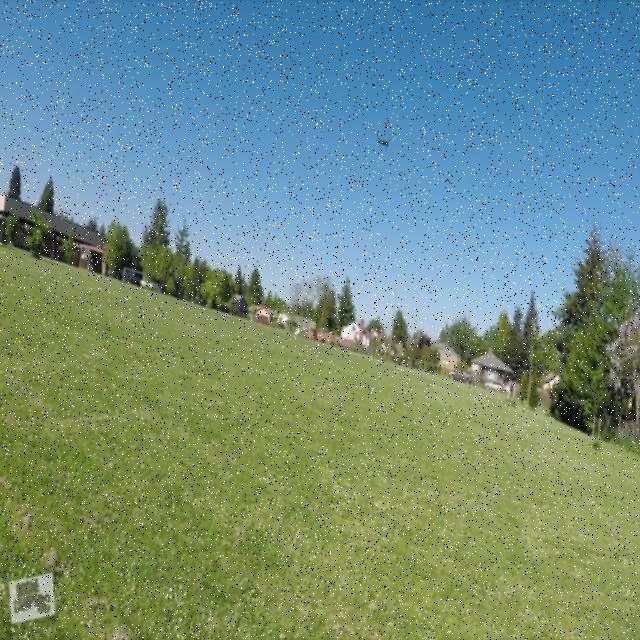UAV: (376, 135, 392, 152)
